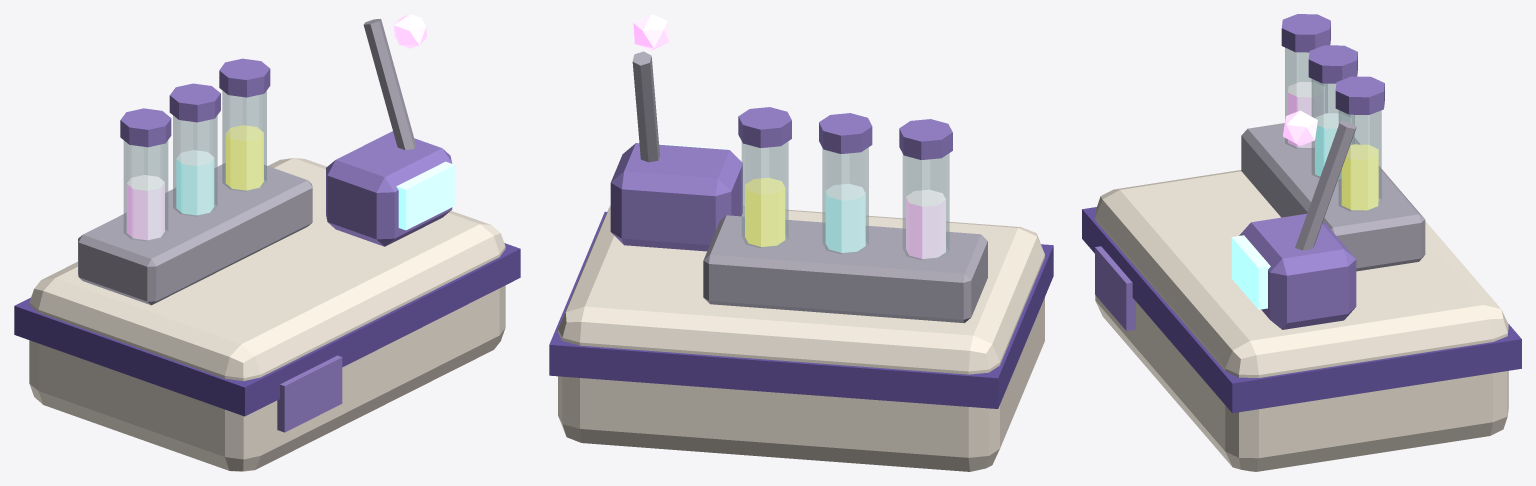
Rendered from MOONSHIFT_ITM_Research_Equipment.glb.
The picture shows the model from 3 angles, left to right: view 1: azimuth 30°, elevation 25°; view 2: azimuth 150°, elevation 25°; view 3: azimuth 270°, elevation 25°; orthographic projection. The views are drawn at different scales.
Visible parts, largest first — view 1: RKit_Case, RKit_Rack, RKit_Band, RKit_Scanner, RKit_Vial0, RKit_Vial1, RKit_Vial2, RKit_Badge, RKit_Screen, RKit_Probe, RKit_Liquid1, RKit_Liquid2 (+5 smaller); view 2: RKit_Case, RKit_Rack, RKit_Band, RKit_Scanner, RKit_Vial0, RKit_Vial2, RKit_Vial1, RKit_Liquid2, RKit_Liquid1, RKit_Liquid0, RKit_Probe, RKit_VialCap2 (+3 smaller); view 3: RKit_Case, RKit_Band, RKit_Rack, RKit_Scanner, RKit_Vial2, RKit_Probe, RKit_Liquid2, RKit_Badge, RKit_Vial1, RKit_Screen, RKit_Vial0, RKit_VialCap2 (+5 smaller).
Boxes of the visible parts, x1=… form: RKit_Case: x1=29, y1=158, x2=505, y2=471; RKit_Rack: x1=78, y1=163, x2=312, y2=305; RKit_Band: x1=14, y1=243, x2=520, y2=416; RKit_Scanner: x1=326, y1=131, x2=452, y2=246; RKit_Vial0: x1=123, y1=140, x2=168, y2=241; RKit_Vial1: x1=173, y1=115, x2=217, y2=216; RKit_Vial2: x1=222, y1=90, x2=266, y2=191; RKit_Badge: x1=277, y1=355, x2=342, y2=432; RKit_Screen: x1=396, y1=161, x2=455, y2=230; RKit_Probe: x1=363, y1=19, x2=415, y2=150; RKit_Liquid1: x1=176, y1=150, x2=214, y2=215; RKit_Liquid2: x1=225, y1=125, x2=263, y2=190; RKit_Case: x1=558, y1=205, x2=1044, y2=471; RKit_Rack: x1=703, y1=215, x2=987, y2=323; RKit_Band: x1=549, y1=211, x2=1053, y2=408; RKit_Scanner: x1=610, y1=143, x2=742, y2=251; RKit_Vial0: x1=902, y1=153, x2=949, y2=259; RKit_Vial2: x1=741, y1=141, x2=788, y2=248; RKit_Vial1: x1=822, y1=147, x2=868, y2=254; RKit_Liquid2: x1=745, y1=177, x2=785, y2=246; RKit_Liquid1: x1=825, y1=183, x2=865, y2=252; RKit_Liquid0: x1=906, y1=189, x2=945, y2=258; RKit_Probe: x1=632, y1=51, x2=659, y2=162; RKit_VialCap2: x1=738, y1=107, x2=791, y2=147; RKit_Case: x1=1095, y1=170, x2=1508, y2=471; RKit_Band: x1=1082, y1=207, x2=1521, y2=413; RKit_Rack: x1=1241, y1=123, x2=1425, y2=271; RKit_Scanner: x1=1239, y1=213, x2=1356, y2=329; RKit_Vial2: x1=1338, y1=110, x2=1381, y2=211; RKit_Probe: x1=1295, y1=120, x2=1356, y2=250; RKit_Liquid2: x1=1341, y1=144, x2=1378, y2=210; RKit_Badge: x1=1095, y1=246, x2=1135, y2=330; RKit_Vial1: x1=1311, y1=79, x2=1354, y2=180; RKit_Screen: x1=1231, y1=235, x2=1270, y2=309; RKit_Vial0: x1=1285, y1=48, x2=1327, y2=148; RKit_VialCap2: x1=1335, y1=76, x2=1384, y2=114.
Size of the model in its own units: 0.7903 by 0.57 by 0.6708.
